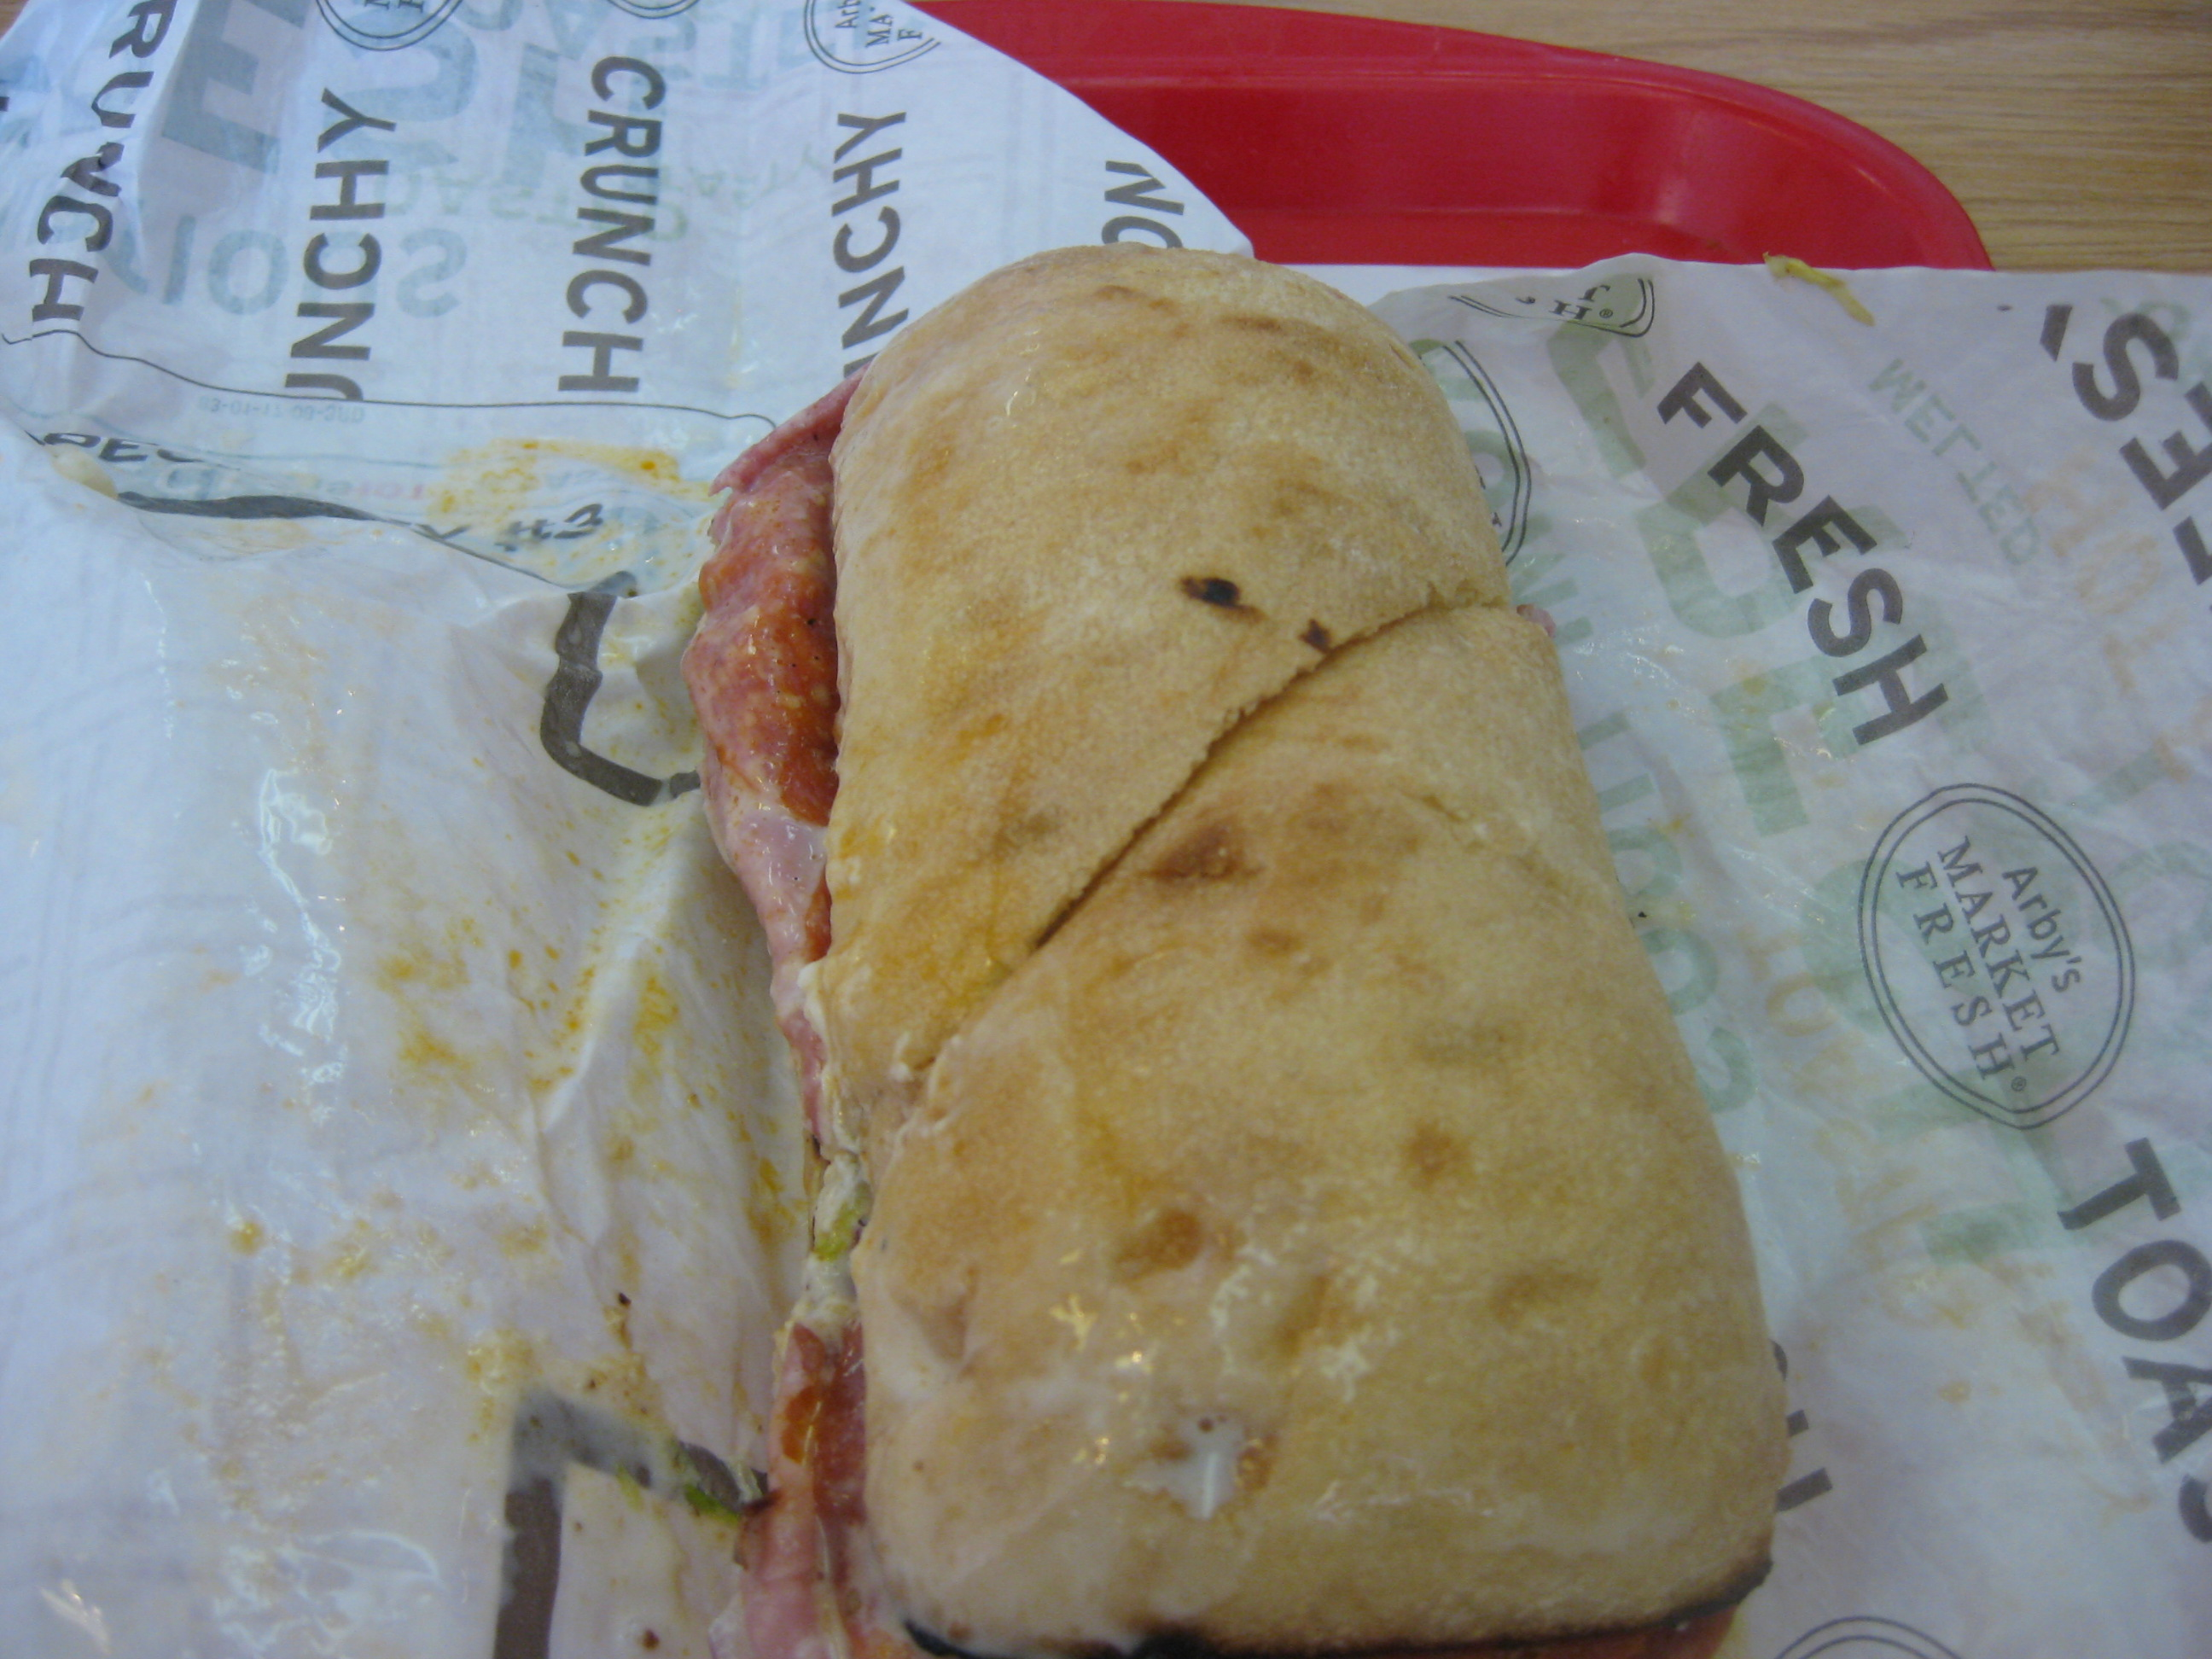sub: (648, 228, 1831, 1659)
